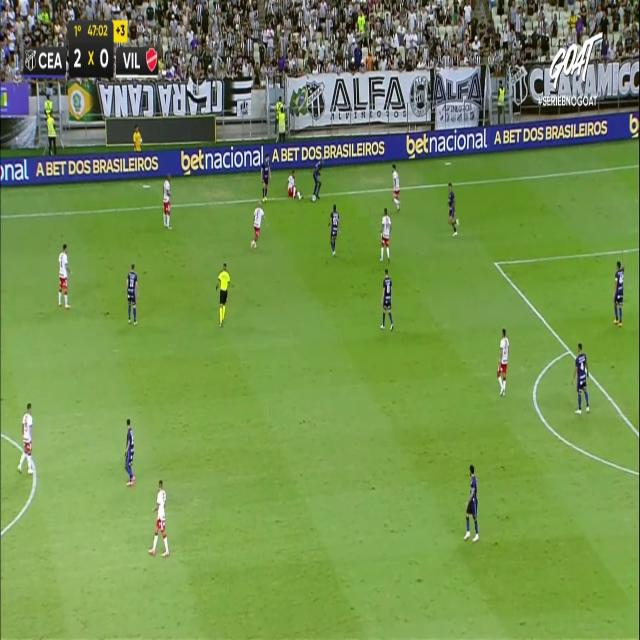ball: (312, 193, 317, 206)
player: (148, 479, 169, 557), (16, 402, 34, 474), (571, 342, 589, 413), (463, 464, 479, 541), (379, 268, 394, 330), (58, 242, 72, 308), (282, 168, 306, 205), (496, 327, 508, 397), (126, 262, 139, 324), (123, 418, 135, 485), (613, 260, 624, 326), (250, 200, 264, 250), (379, 207, 391, 262), (447, 182, 459, 236), (259, 156, 273, 202), (327, 203, 339, 256), (162, 172, 172, 230), (311, 158, 322, 201), (392, 164, 401, 212)
referee: (215, 262, 230, 327)
